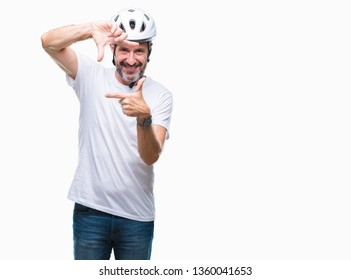helmet: (111, 7, 157, 83)
